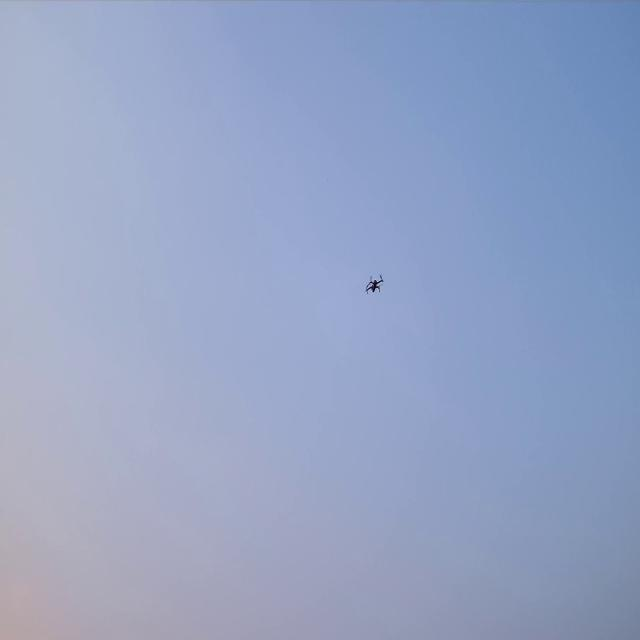UAV: (365, 273, 384, 295)
